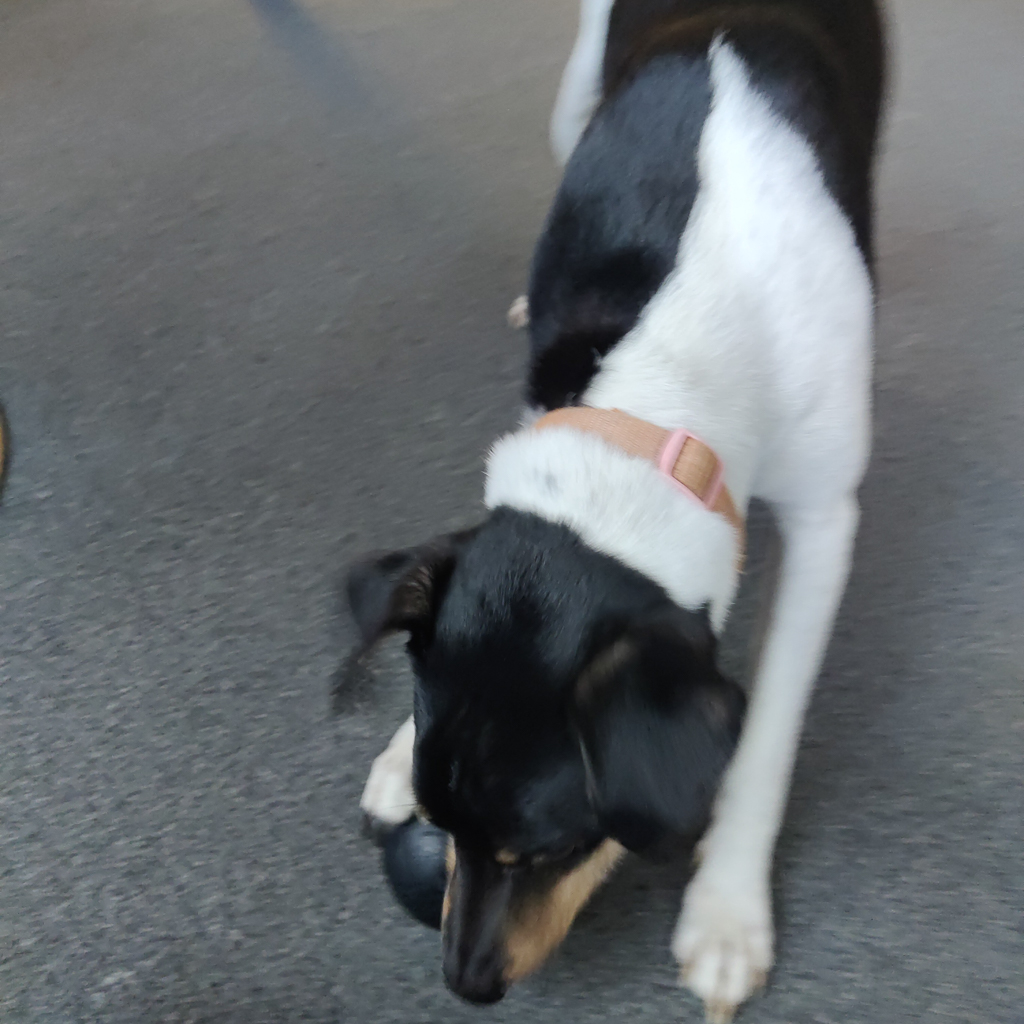Dog: (296, 0, 933, 1024)
